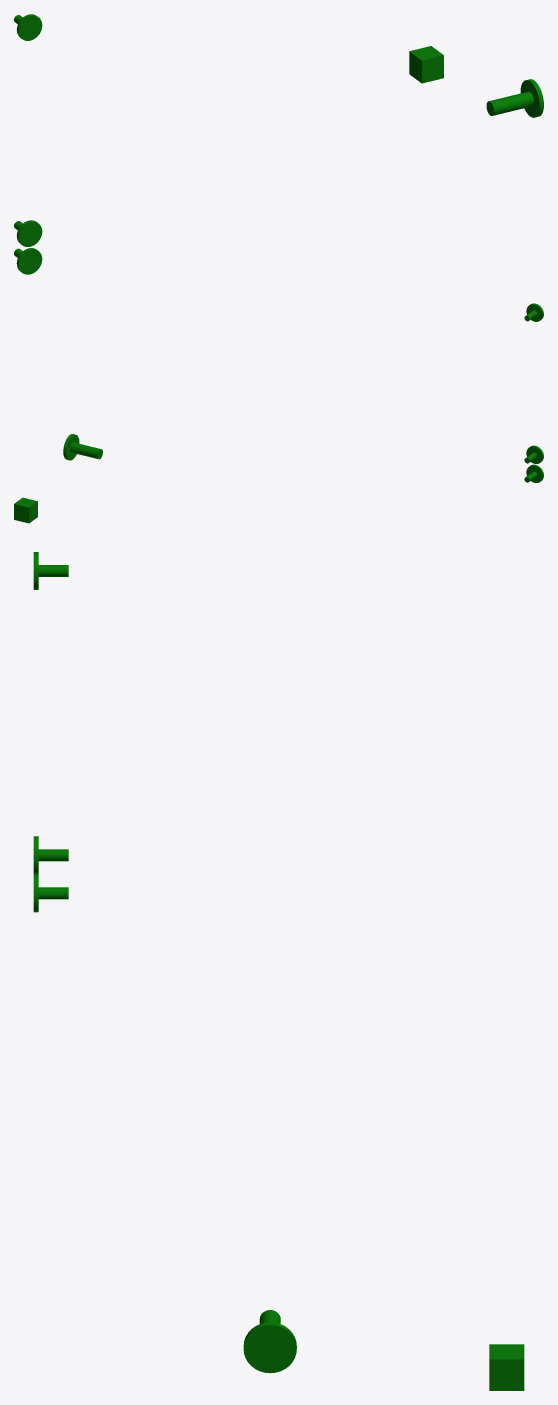
Rendered from Image-1711348128308-2280884504320_42-PF52.fbx.
3 renders of one model, top to bottom at view 1: azimuth 30°, elevation 25°; view 2: azimuth 150°, elevation 25°; view 3: azimuth 270°, elevation 25°, orthographic. The views are drawn at different scales.
Visible parts, largest first — view 1: /42-PF52A/TP12, BOX 1 of SUBEQUIPMENT /SI-3603, /42-PF52A/TP25, /42-PF52A/TP11, /42-PF52A/TP10; view 2: /42-PF52A/TP12, BOX 1 of SUBEQUIPMENT /SI-3603, /42-PF52A/TP11, /42-PF52A/TP10, /42-PF52A/TP25; view 3: /42-PF52A/TP12, BOX 1 of SUBEQUIPMENT /SI-3603.
Part boxes in pixels (left/top/right/bottom): /42-PF52A/TP12: left=486, top=79, right=543, bottom=117; BOX 1 of SUBEQUIPMENT /SI-3603: left=409, top=46, right=443, bottom=83; /42-PF52A/TP25: left=14, top=14, right=42, bottom=40; /42-PF52A/TP11: left=14, top=220, right=42, bottom=246; /42-PF52A/TP10: left=14, top=248, right=42, bottom=274; /42-PF52A/TP12: left=63, top=434, right=102, bottom=460; BOX 1 of SUBEQUIPMENT /SI-3603: left=14, top=497, right=37, bottom=523; /42-PF52A/TP11: left=524, top=445, right=543, bottom=463; /42-PF52A/TP10: left=524, top=464, right=543, bottom=482; /42-PF52A/TP25: left=524, top=303, right=543, bottom=321; /42-PF52A/TP12: left=243, top=1310, right=296, bottom=1373; BOX 1 of SUBEQUIPMENT /SI-3603: left=489, top=1344, right=524, bottom=1390.
Size of the model in its own units: 2.73 by 1.4 by 1.41.
